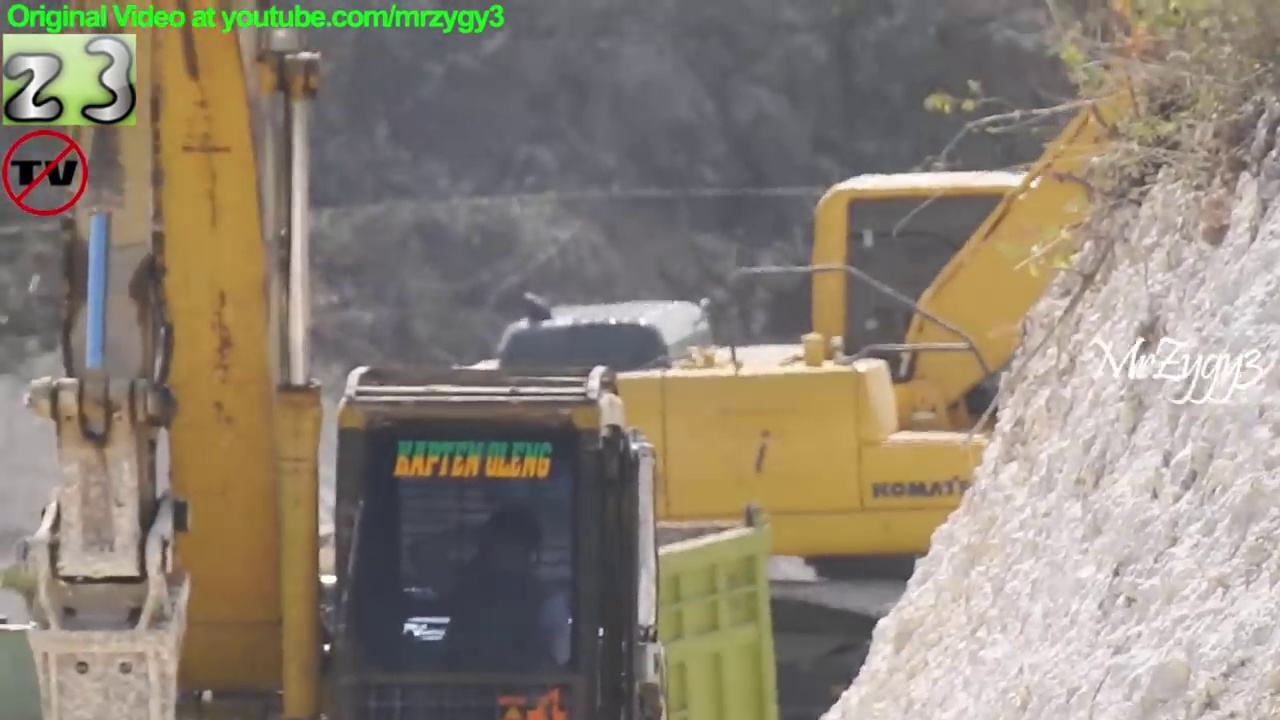excavator: (1, 1, 684, 720)
truck: (433, 1, 1280, 720), (1, 495, 790, 720)
